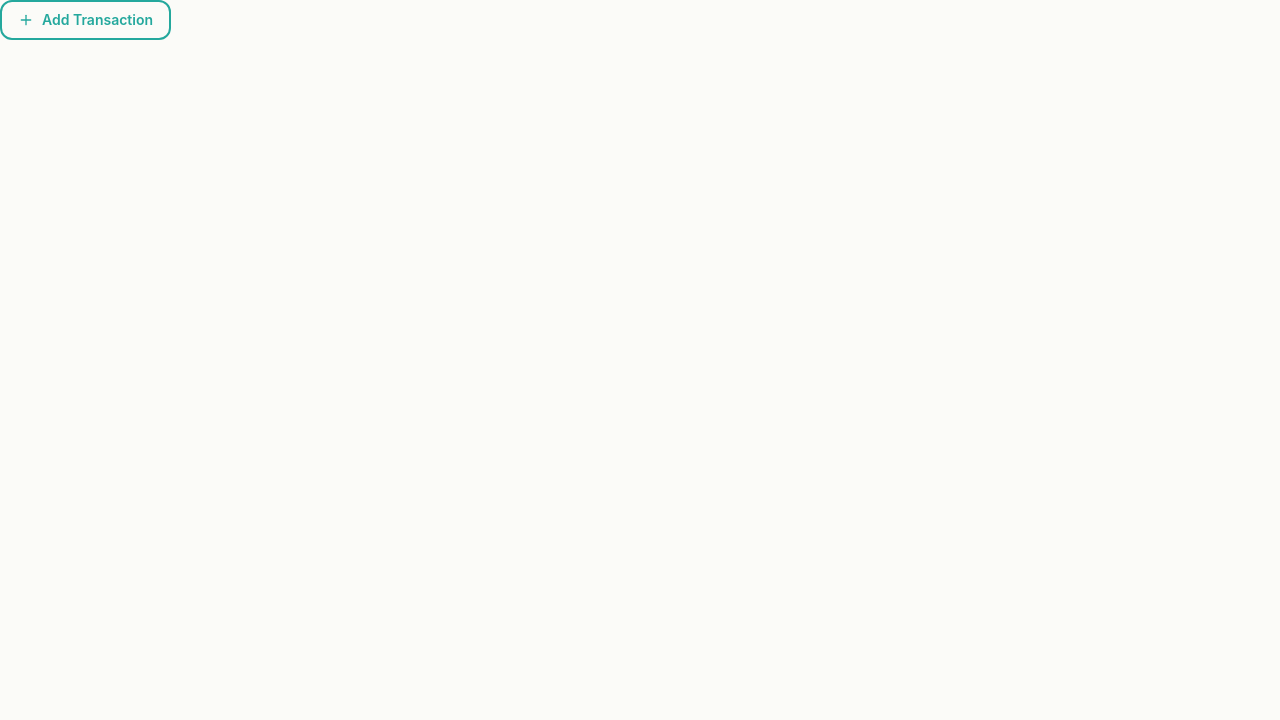
Test case: AddTransactionDialog › opens dialog and shows kid name in title
Click the button "Add Transaction". click: (86,20)
box: x1=0 y1=0 x2=171 y2=40
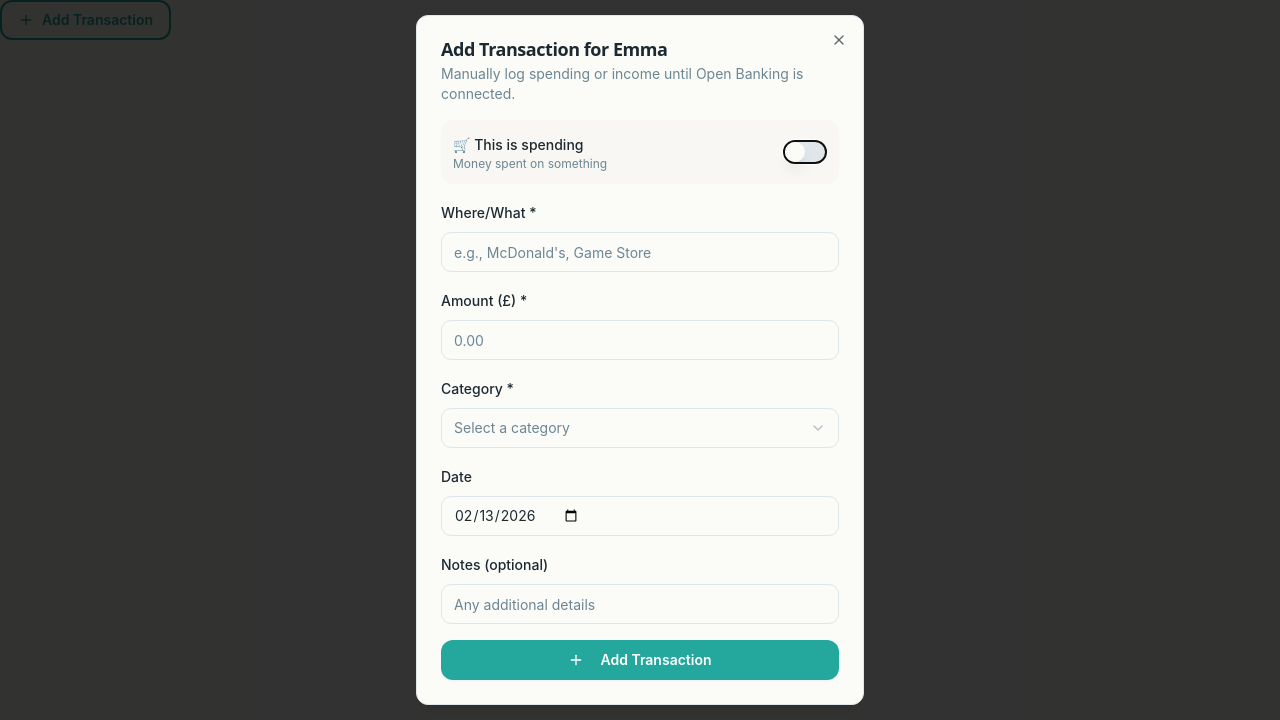
Now the heading "Add Transaction for Emma" is shown, box x1=441 y1=37 x2=667 y2=61
